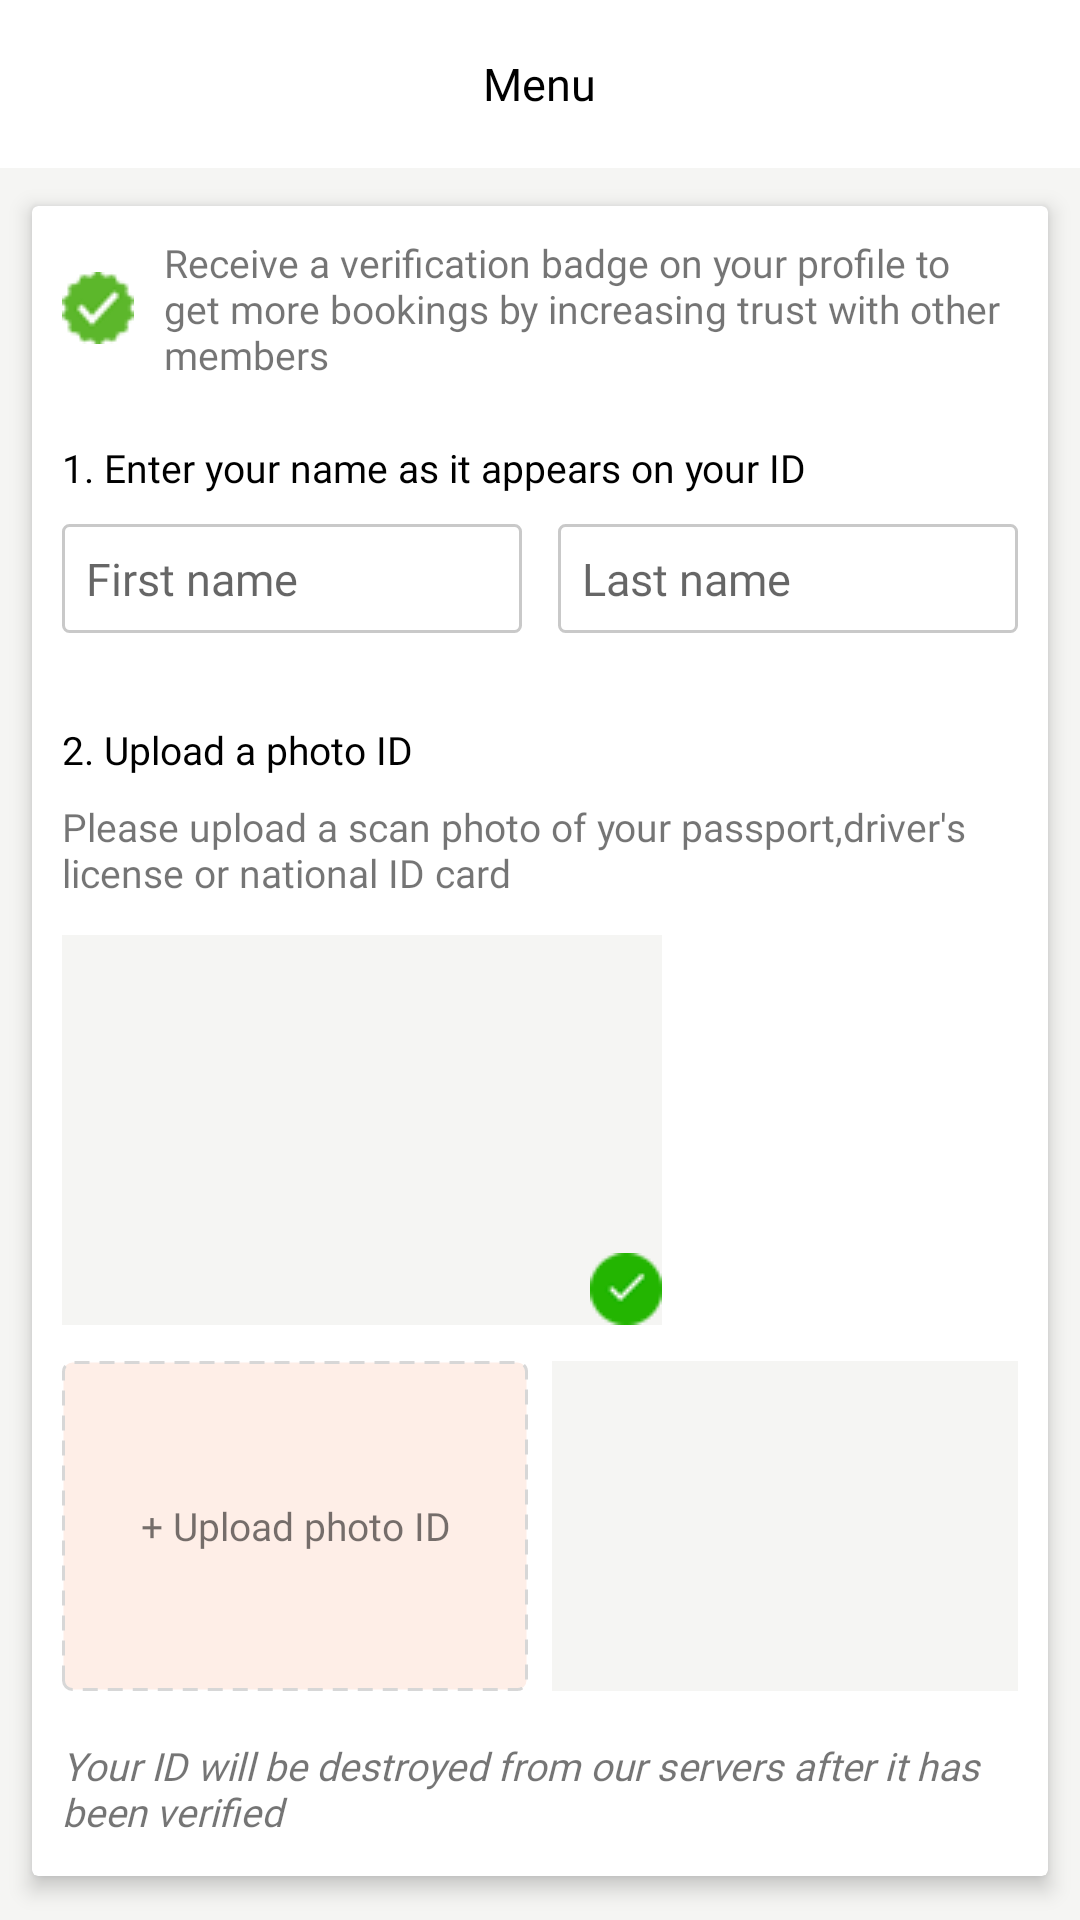

Where icons sit on this 1080px×1920px app screen, as bbox=(x1, y1, x2, y2):
check: bbox=(590, 1253, 662, 1325)
